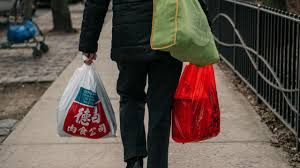PlasticBag: (169, 63, 234, 149), (54, 65, 115, 140)
